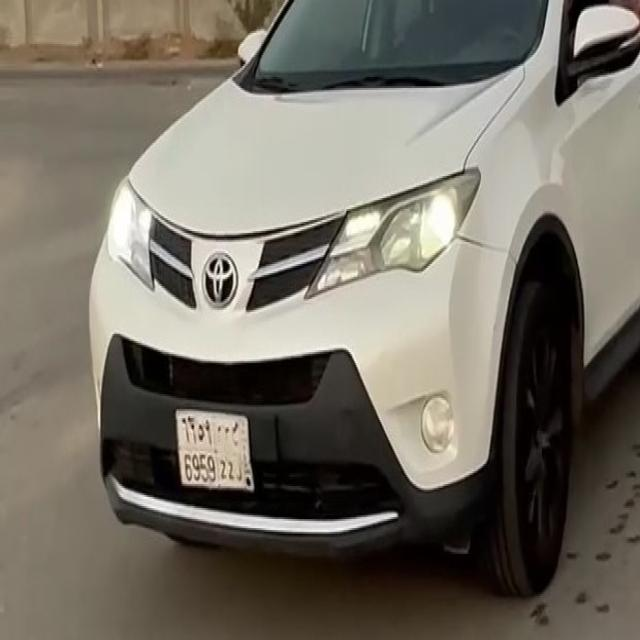Car-plate: (170, 395, 268, 514)
